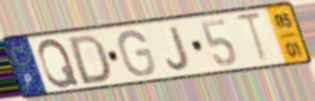5: (198, 17, 239, 68)
D: (67, 33, 113, 87)
G: (116, 28, 157, 79)
J: (164, 24, 191, 72)
Q: (36, 36, 81, 90)
T: (233, 10, 271, 65)
